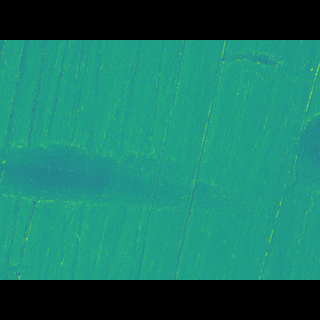Loch: (0, 140, 247, 202)
